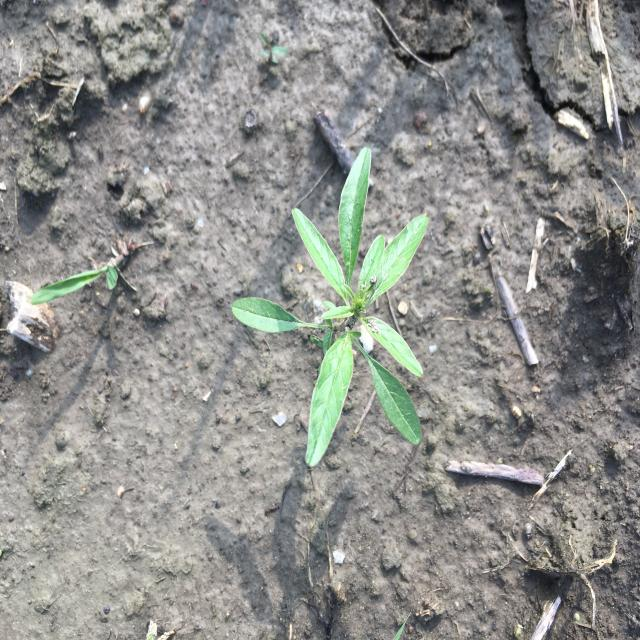Waterhemp: (230, 145, 430, 469)
